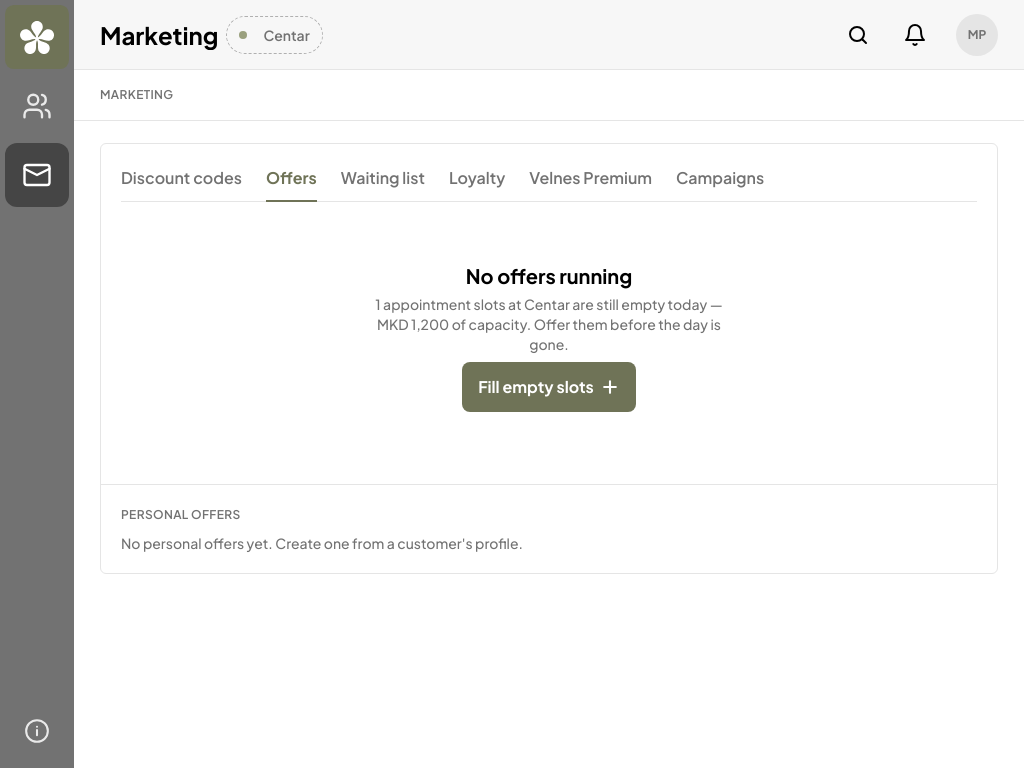
Test case: marketing › shows the read-only Premium rules and approves a recommendation with its transparent why
The image size is (1024, 768).
Expected: the heading "No offers running" is shown, [466,266,632,286]
Click the button "Velnes Premium" at (591, 181), box [529,160,652,202]
(page scrolled)
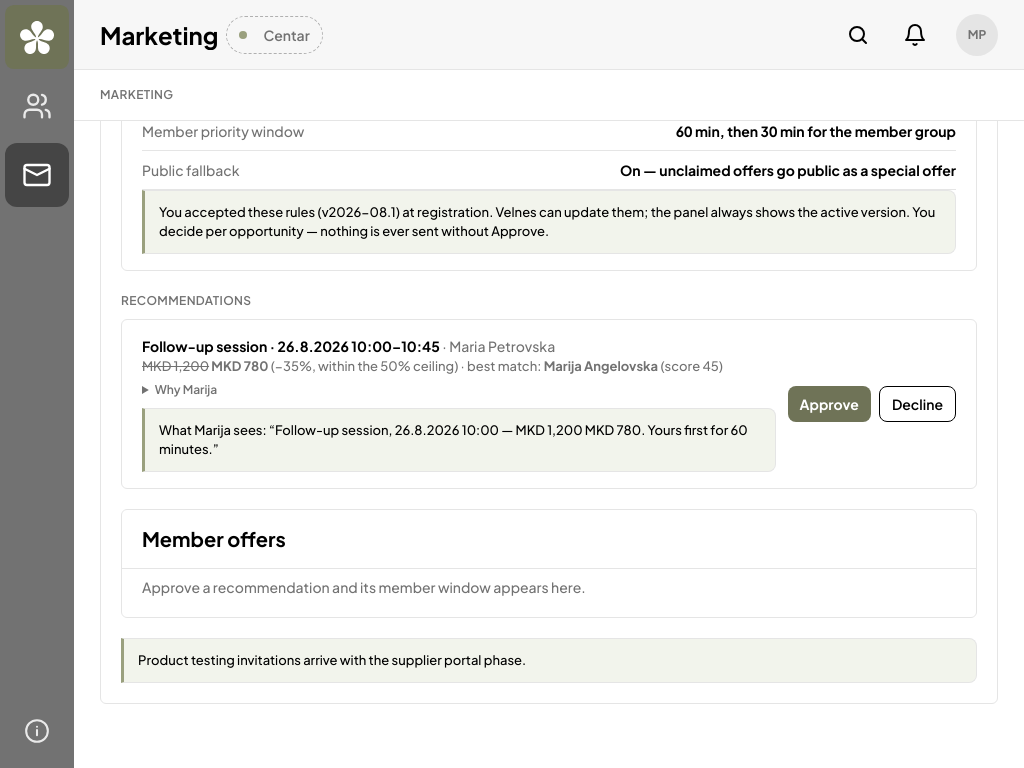
Expected: the text "Program rules — set by Velnes, read-only" is shown, [142,8,439,23]
Click the button "Approve" at (829, 404), box [788,386,871,422]
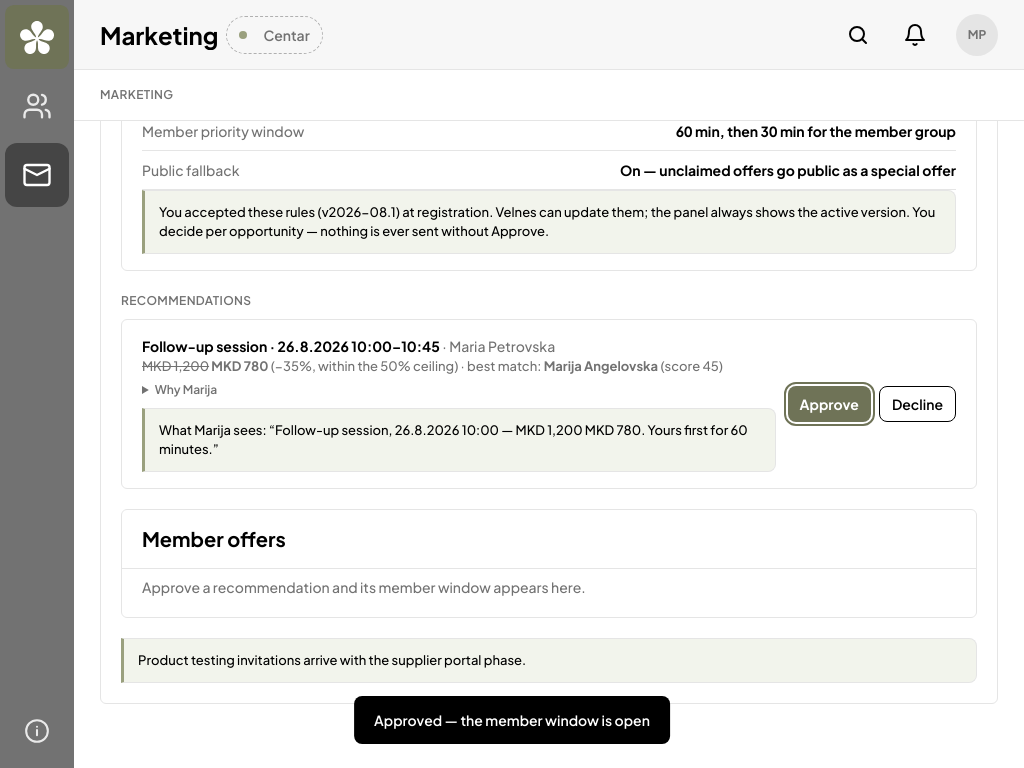
Expected: the text "Approved — the member window is open" is shown, [354,696,670,744]
